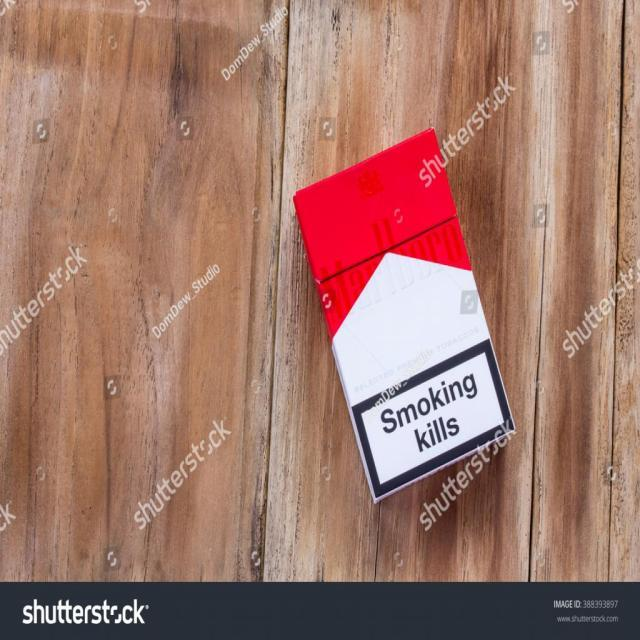smoking: (281, 126, 531, 504)
